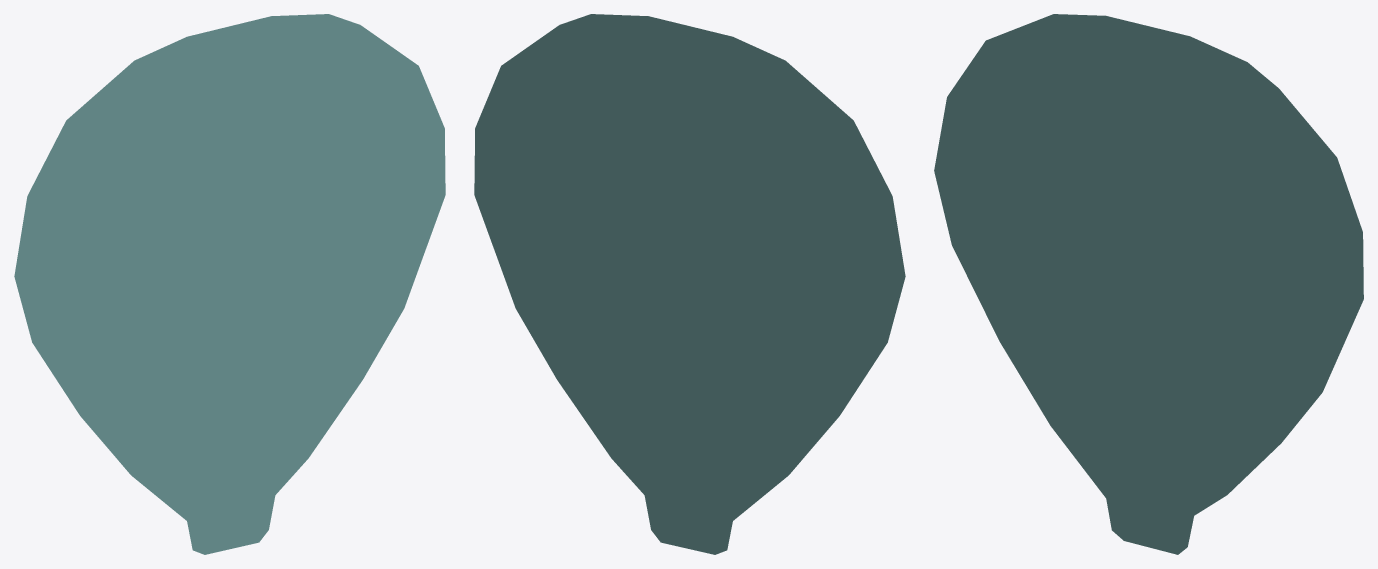
File: HotAirBalloon_LOD3.fbx
3 views of the same model, side by side, from view 1: azimuth 30°, elevation 25°; view 2: azimuth 150°, elevation 25°; view 3: azimuth 330°, elevation 25° (orthographic).
Visible parts, largest first — view 1: Balloon_LOD3; view 2: Balloon_LOD3; view 3: Balloon_LOD3.
Part boxes in pixels (x1,y1,x2,y2): Balloon_LOD3: [14, 14, 445, 554]; Balloon_LOD3: [474, 14, 905, 554]; Balloon_LOD3: [934, 14, 1363, 554].
Size of the model in its own units: 15.98 by 18.54 by 0.
